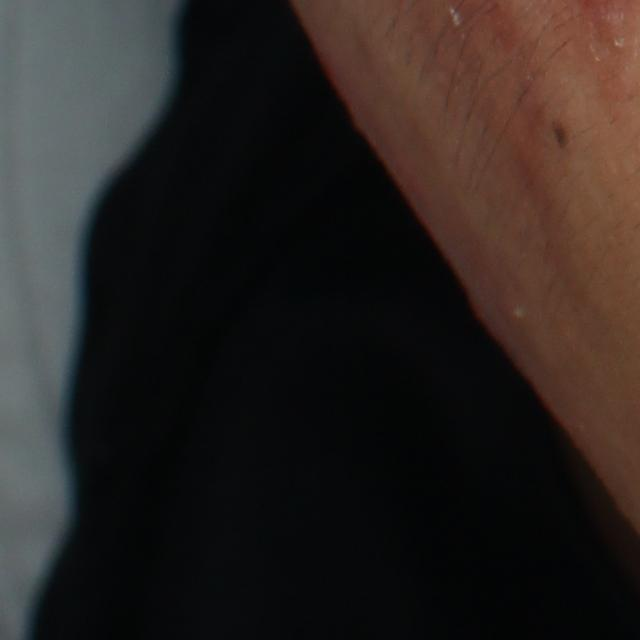nevus: (552, 117, 570, 151)
